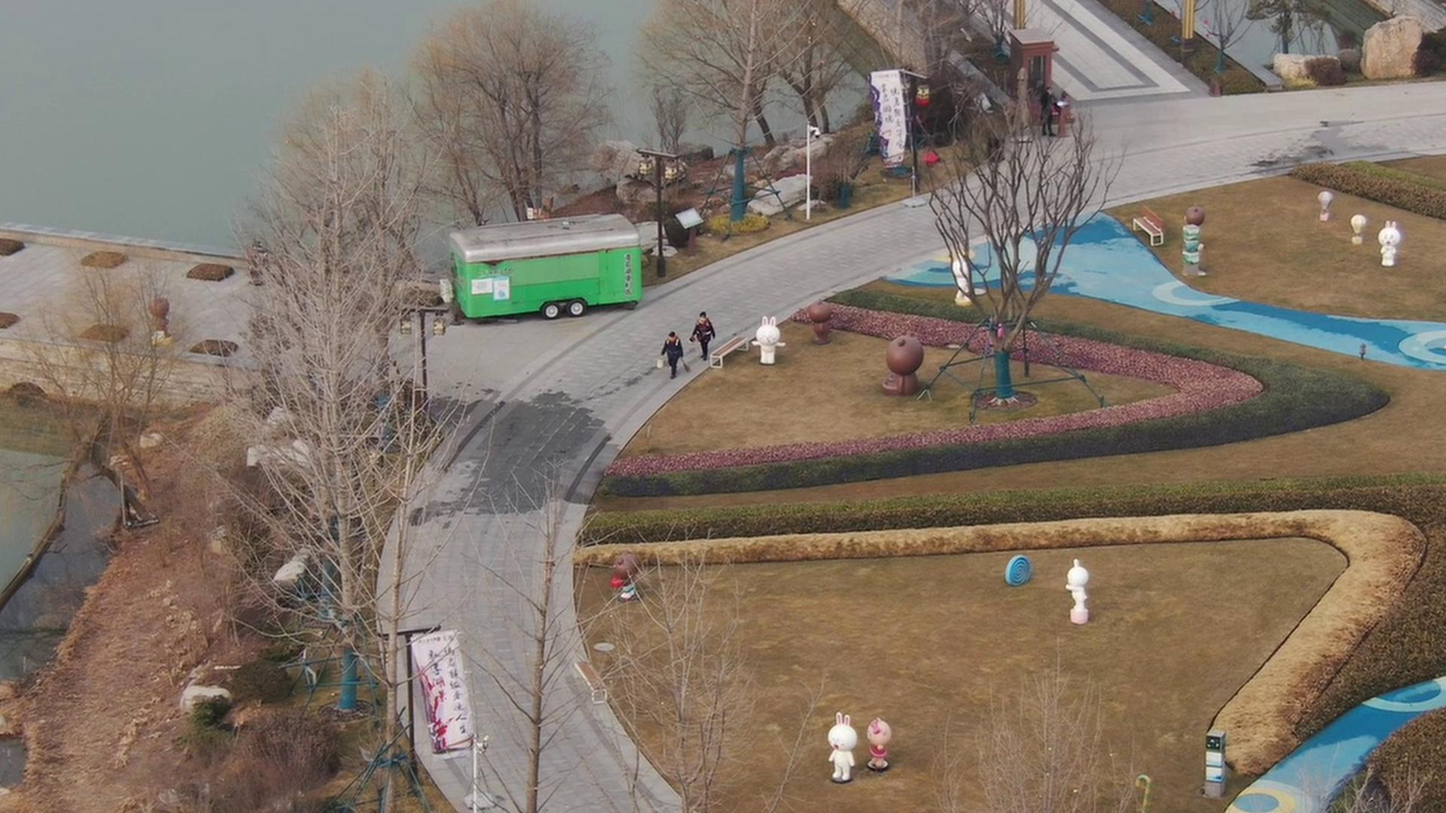human: (681, 303, 716, 355), (654, 322, 685, 377)
